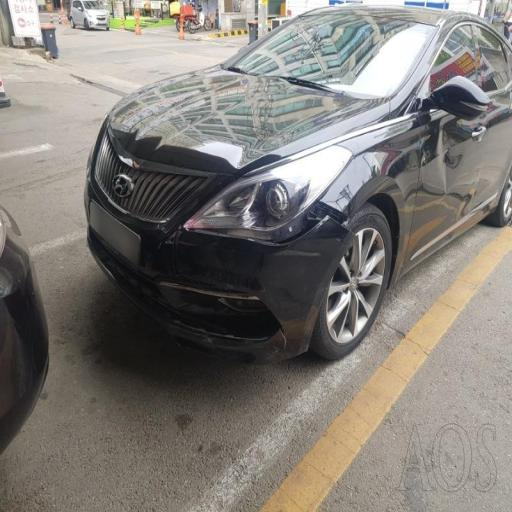broken: (150, 217, 304, 359)
scratch: (157, 76, 312, 165)
